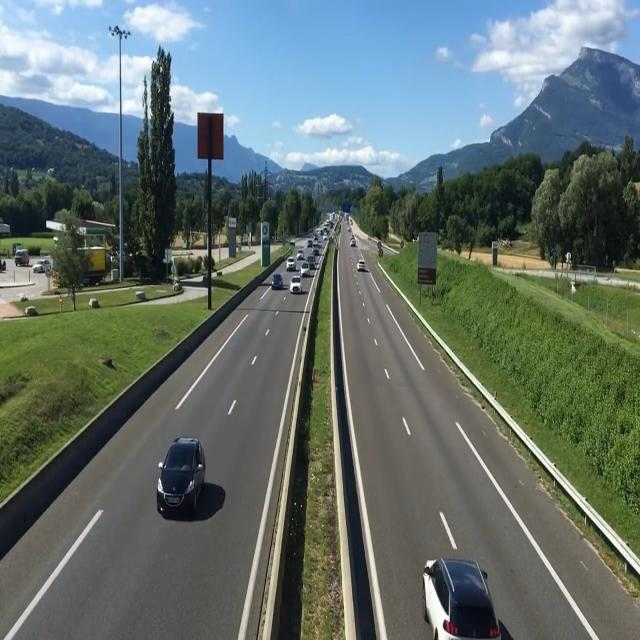car: (420, 557, 504, 640), (157, 430, 206, 516), (288, 273, 302, 299), (270, 272, 284, 292), (354, 258, 368, 274), (286, 252, 296, 272), (350, 237, 357, 250)
